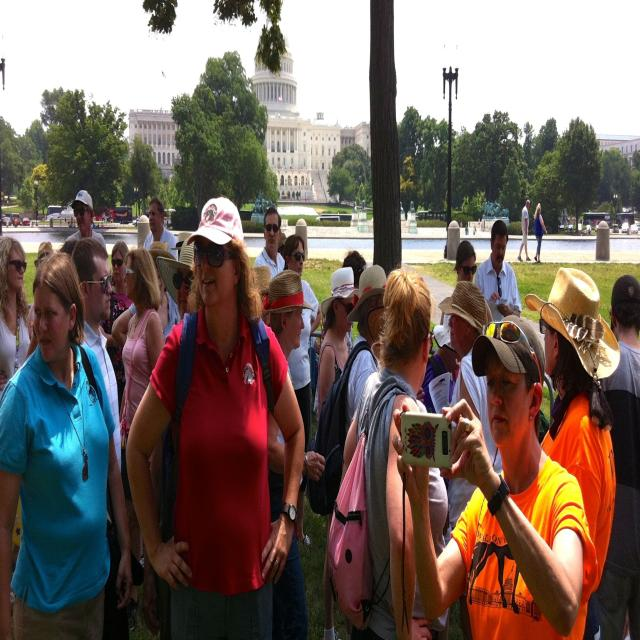body: (122, 192, 313, 640), (391, 313, 588, 640), (0, 250, 133, 640), (336, 264, 449, 637), (524, 265, 620, 639), (261, 269, 325, 636), (312, 261, 360, 640), (152, 235, 195, 640), (70, 233, 123, 552), (438, 279, 503, 537), (118, 244, 169, 570), (596, 273, 640, 639), (119, 247, 164, 568), (283, 233, 323, 549), (340, 264, 388, 441), (421, 313, 459, 489), (0, 234, 38, 399), (100, 240, 134, 416), (474, 219, 523, 322), (439, 239, 494, 326), (340, 250, 368, 358), (26, 238, 55, 338), (64, 188, 107, 254), (253, 205, 286, 279), (306, 297, 328, 408), (142, 196, 178, 262), (246, 258, 274, 331), (516, 198, 532, 263), (533, 201, 548, 265), (170, 232, 195, 264), (557, 220, 591, 237), (58, 233, 77, 259), (459, 216, 483, 236), (276, 230, 288, 260), (25, 338, 38, 363), (62, 214, 77, 228), (92, 217, 105, 230), (14, 215, 18, 228), (483, 219, 486, 231)
